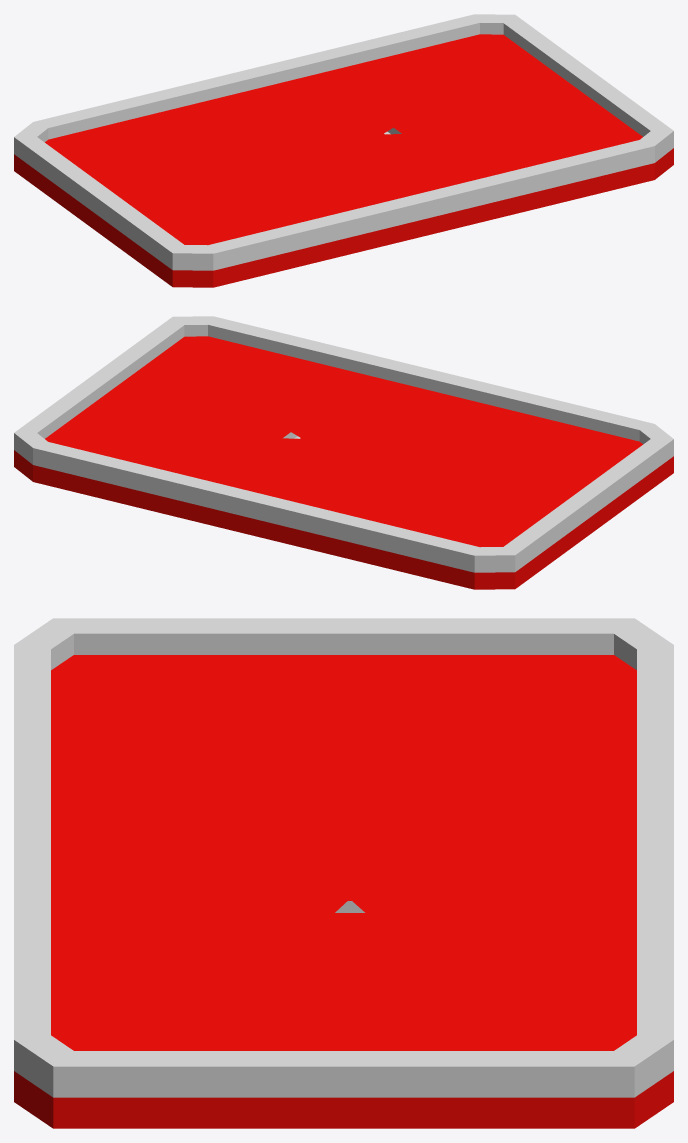
Rendered from Out sign.fbx.
3 views of the same model, one above another, from view 1: azimuth 30°, elevation 25°; view 2: azimuth 150°, elevation 25°; view 3: azimuth 270°, elevation 25° (orthographic). The views are drawn at different scales.
Visible parts, largest first — view 1: Cube.001; view 2: Cube.001; view 3: Cube.001.
Boxes of the visible parts, bbox=[...] form: Cube.001: bbox=[14, 14, 673, 287]; Cube.001: bbox=[14, 316, 673, 589]; Cube.001: bbox=[14, 618, 673, 1128].
Size of the model in its own units: 364 by 23.61 by 227.
